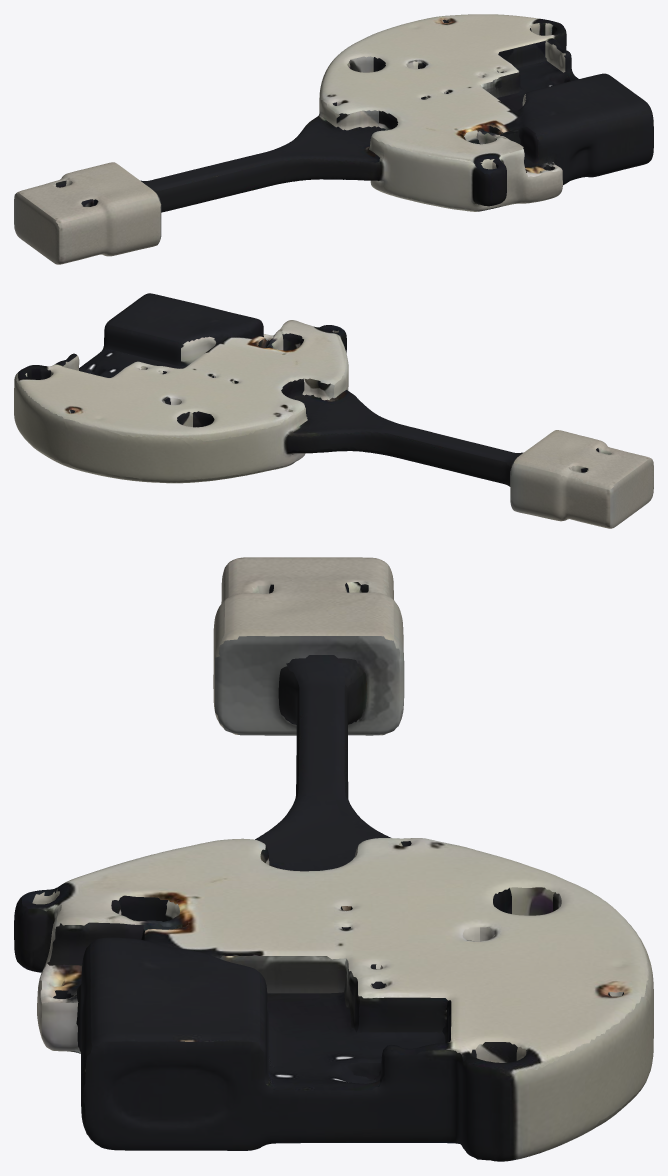
The model's file is magsafe-port.glb.
3 renders of one model, top to bottom at view 1: azimuth 30°, elevation 25°; view 2: azimuth 150°, elevation 25°; view 3: azimuth 270°, elevation 25°, orthographic. The views are drawn at different scales.
Visible parts, largest first — view 1: tmpu346egqq.ply; view 2: tmpu346egqq.ply; view 3: tmpu346egqq.ply.
Boxes of the visible parts, left/top/right/bottom form: tmpu346egqq.ply: left=14, top=14, right=653, bottom=264; tmpu346egqq.ply: left=14, top=293, right=653, bottom=528; tmpu346egqq.ply: left=14, top=557, right=653, bottom=1161.
Bounding box in the file's own units: 0.9873 × 0.1028 × 0.513.
Materials: 1 (1 with a texture image).
